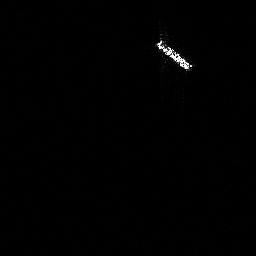ship: (156, 39, 192, 72)
